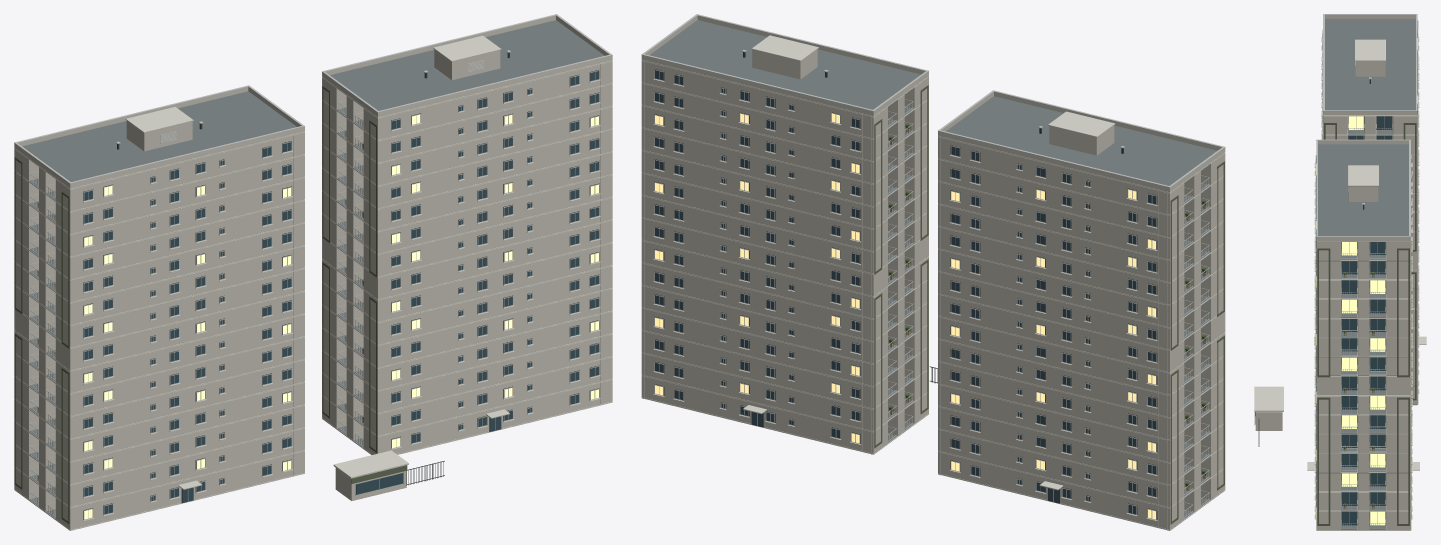
Rendered from monte-dos-cedros.glb.
The picture shows the model from 3 angles, left to right: view 1: azimuth 30°, elevation 25°; view 2: azimuth 150°, elevation 25°; view 3: azimuth 270°, elevation 25°; orthographic projection. The views are drawn at different scales.
Parts seen in each view (by area): view 1: GEO-T01-acabamento-00-telhado, GEO-T02-acabamento-00-telhado, GEO-T02-paredes-07-reboco, GEO-T01-paredes-07-reboco, GEO-T02-paredes-03-reboco, GEO-T02-paredes-11-reboco, GEO-T01-paredes-03-reboco, GEO-T02-paredes-02-reboco, GEO-T02-paredes-10-reboco, GEO-T01-paredes-11-reboco, GEO-T02-paredes-12-reboco, GEO-T02-paredes-14-reboco (+30 smaller); view 2: GEO-T01-acabamento-00-telhado, GEO-T02-acabamento-00-telhado, GEO-T02-paredes-03-reboco, GEO-T02-paredes-05-reboco, GEO-T02-paredes-09-reboco, GEO-T02-paredes-11-reboco, GEO-T02-paredes-07-reboco, GEO-T02-paredes-12-reboco, GEO-T02-paredes-02-reboco, GEO-T01-paredes-02-reboco, GEO-T01-paredes-12-reboco, GEO-T01-paredes-03-reboco (+28 smaller); view 3: GEO-T02-acabamento-00-telhado, GEO-T01-acabamento-00-telhado, GEO-T02-acabamento-00-moldura, GEO-T01-acabamento-00-reboco, GEO-T02-acabamento-00-reboco, GEO-T01-acabamento-00-metal, GEO-T02-paredes-07-reboco, GEO-T02-paredes-01-reboco, GEO-T02-paredes-05-reboco, GEO-T02-paredes-09-reboco, GEO-T02-paredes-12-reboco, GEO-T02-paredes-14-reboco (+53 smaller).
Boxes of the visible parts, x1,y1,x2,y2 form: GEO-T01-acabamento-00-telhado: (22, 91, 296, 181); GEO-T02-acabamento-00-telhado: (330, 20, 604, 110); GEO-T02-paredes-07-reboco: (322, 220, 612, 299); GEO-T01-paredes-07-reboco: (14, 292, 304, 370); GEO-T02-paredes-03-reboco: (322, 311, 612, 390); GEO-T02-paredes-11-reboco: (322, 129, 612, 208); GEO-T01-paredes-03-reboco: (14, 383, 304, 461); GEO-T02-paredes-02-reboco: (322, 334, 612, 412); GEO-T02-paredes-10-reboco: (322, 152, 612, 230); GEO-T01-paredes-11-reboco: (14, 201, 304, 279); GEO-T02-paredes-12-reboco: (322, 107, 612, 185); GEO-T02-paredes-14-reboco: (322, 61, 612, 139); GEO-T01-acabamento-00-telhado: (946, 96, 1217, 185); GEO-T02-acabamento-00-telhado: (649, 20, 920, 109); GEO-T02-paredes-03-reboco: (641, 308, 928, 385); GEO-T02-paredes-05-reboco: (641, 263, 928, 340); GEO-T02-paredes-09-reboco: (641, 173, 928, 250); GEO-T02-paredes-11-reboco: (641, 128, 928, 205); GEO-T02-paredes-07-reboco: (641, 218, 928, 295); GEO-T02-paredes-12-reboco: (641, 106, 928, 183); GEO-T02-paredes-02-reboco: (641, 331, 928, 408); GEO-T01-paredes-02-reboco: (938, 407, 1225, 484); GEO-T01-paredes-12-reboco: (938, 182, 1225, 259); GEO-T01-paredes-03-reboco: (938, 384, 1225, 462); GEO-T02-acabamento-00-telhado: (1318, 144, 1408, 235); GEO-T01-acabamento-00-telhado: (1325, 19, 1415, 110); GEO-T02-acabamento-00-moldura: (1317, 248, 1409, 525); GEO-T01-acabamento-00-reboco: (1323, 15, 1417, 115); GEO-T02-acabamento-00-reboco: (1316, 140, 1410, 240); GEO-T01-acabamento-00-metal: (1323, 14, 1418, 404); GEO-T02-paredes-07-reboco: (1316, 376, 1410, 394); GEO-T02-paredes-01-reboco: (1316, 492, 1410, 510); GEO-T02-paredes-05-reboco: (1316, 415, 1410, 433); GEO-T02-paredes-09-reboco: (1316, 338, 1410, 356); GEO-T02-paredes-12-reboco: (1316, 280, 1410, 298); GEO-T02-paredes-14-reboco: (1316, 242, 1410, 260).
Size of the model in its own units: 78.09 by 50.2 by 25.55.
